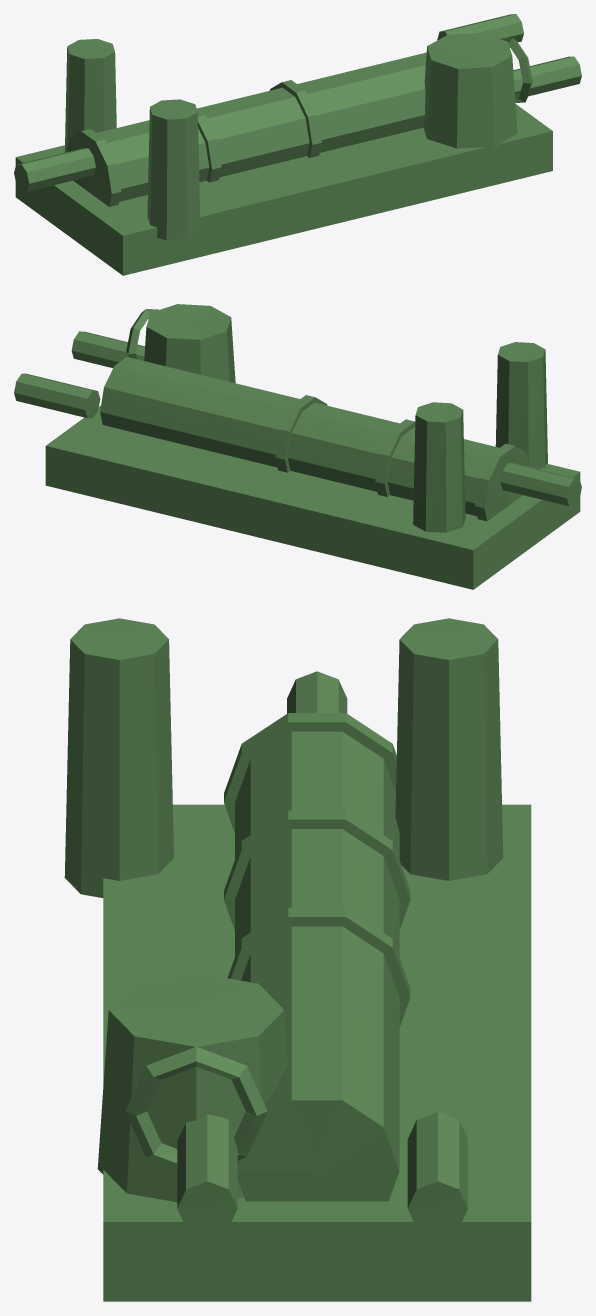
File: Desalination-Plant.glb
The picture shows the model from 3 angles, top to bottom: view 1: azimuth 30°, elevation 25°; view 2: azimuth 150°, elevation 25°; view 3: azimuth 270°, elevation 25°; orthographic projection. The views are drawn at different scales.
Visible parts, largest first — view 1: wind-pump-static-desalination-plant-iron-mat, wind-pump-static-desalination-plant-blue-gray-mat, wind-pump-static-desalination-plant-cream-mat, wind-pump-static-desalination-plant-teal-mat; view 2: wind-pump-static-desalination-plant-iron-mat, wind-pump-static-desalination-plant-cream-mat, wind-pump-static-desalination-plant-blue-gray-mat, wind-pump-static-desalination-plant-teal-mat; view 3: wind-pump-static-desalination-plant-iron-mat, wind-pump-static-desalination-plant-blue-gray-mat, wind-pump-static-desalination-plant-cream-mat, wind-pump-static-desalination-plant-teal-mat.
Boxes of the visible parts, x1,y1,x2,y2 form: wind-pump-static-desalination-plant-iron-mat: [14, 14, 581, 275]; wind-pump-static-desalination-plant-blue-gray-mat: [65, 33, 517, 240]; wind-pump-static-desalination-plant-cream-mat: [97, 52, 426, 201]; wind-pump-static-desalination-plant-teal-mat: [500, 38, 532, 102]; wind-pump-static-desalination-plant-iron-mat: [14, 331, 581, 589]; wind-pump-static-desalination-plant-cream-mat: [100, 357, 499, 516]; wind-pump-static-desalination-plant-blue-gray-mat: [144, 304, 547, 532]; wind-pump-static-desalination-plant-teal-mat: [126, 309, 158, 358]; wind-pump-static-desalination-plant-iron-mat: [103, 671, 531, 1301]; wind-pump-static-desalination-plant-blue-gray-mat: [64, 618, 503, 1202]; wind-pump-static-desalination-plant-cream-mat: [235, 731, 399, 1201]; wind-pump-static-desalination-plant-teal-mat: [125, 1047, 267, 1168].
Bounding box in the file's own units: 2.2 × 0.6 × 0.85.
